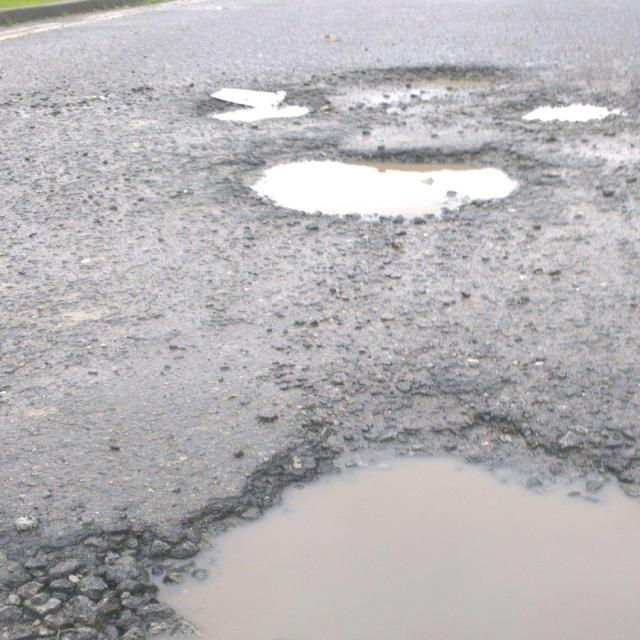road-pothole: (92, 421, 638, 639), (243, 142, 538, 217), (185, 63, 550, 123)
